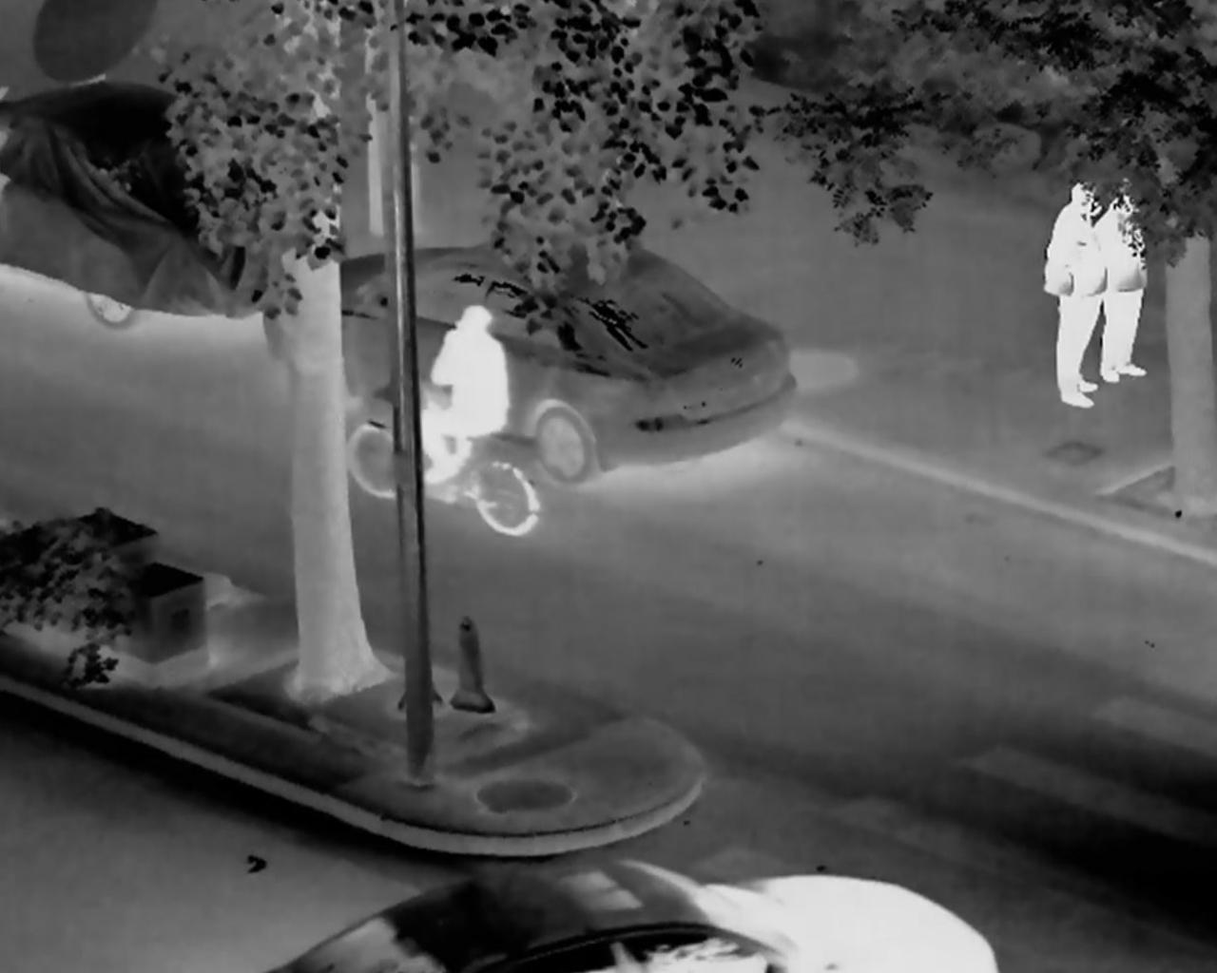person: (416, 306, 511, 480), (1045, 180, 1105, 410), (1091, 176, 1149, 386)
